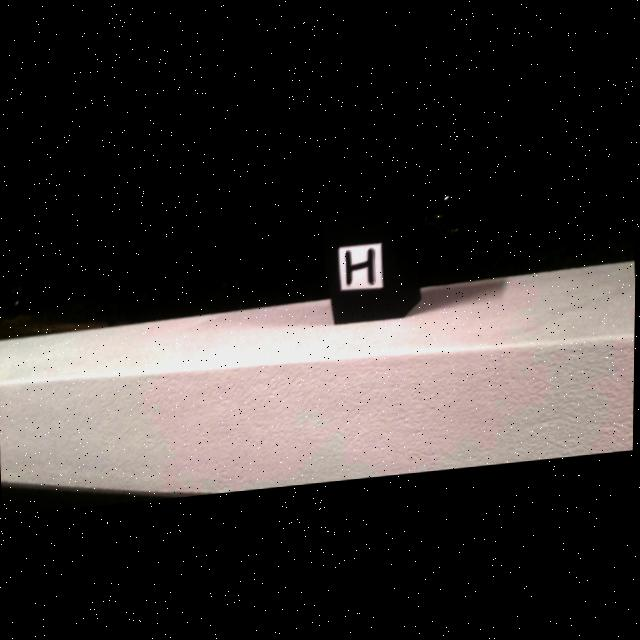H: (347, 253, 376, 290)
